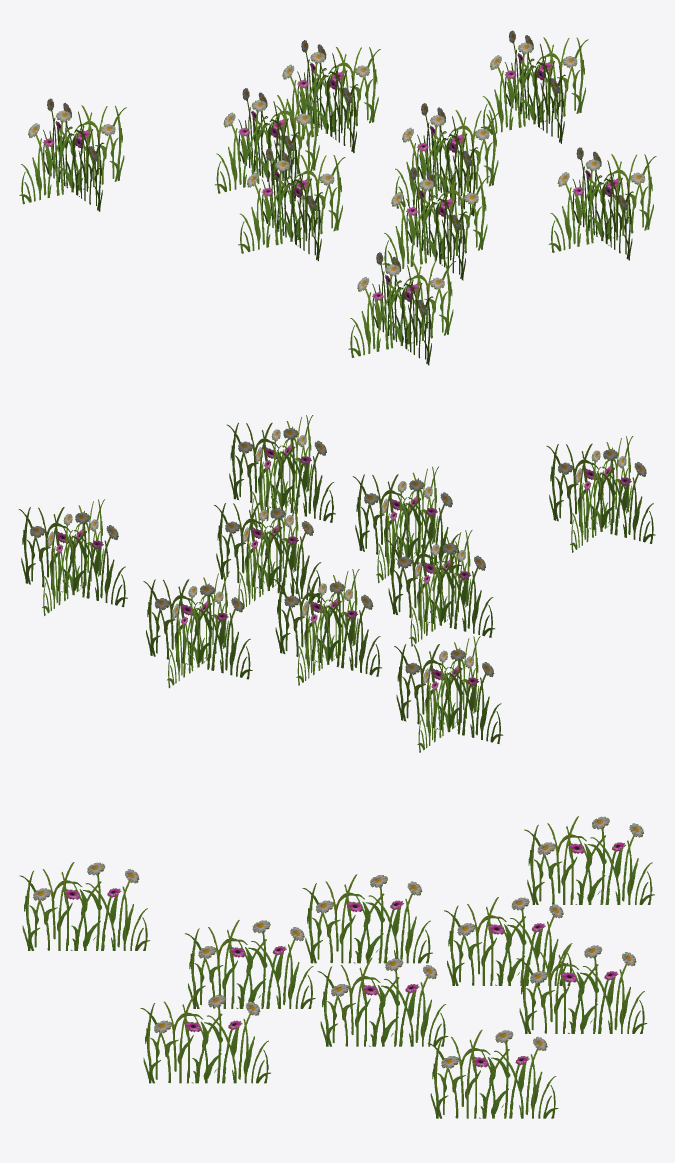
Rendered from sc_glass01.FBX.
3 renders of one model, top to bottom at view 1: azimuth 30°, elevation 25°; view 2: azimuth 150°, elevation 25°; view 3: azimuth 270°, elevation 25°, orthographic. The views are drawn at different scales.
Parts seen in each view (by area): view 1: sc_glass01; view 2: sc_glass01; view 3: sc_glass01.
Boxes of the visible parts, <box> form: sc_glass01: <box>19,30,656,365</box>; sc_glass01: <box>18,415,655,752</box>; sc_glass01: <box>19,816,654,1118</box>.
Size of the model in its own units: 237 by 36.13 by 237.
